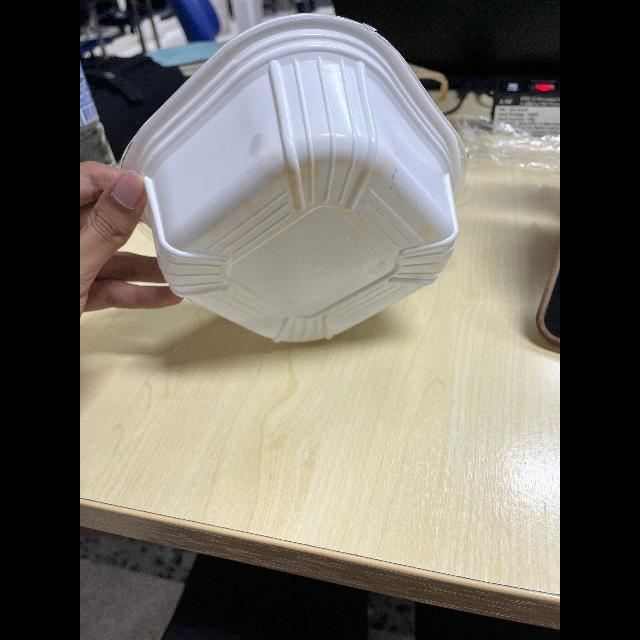plastic_box: (115, 14, 473, 344)
